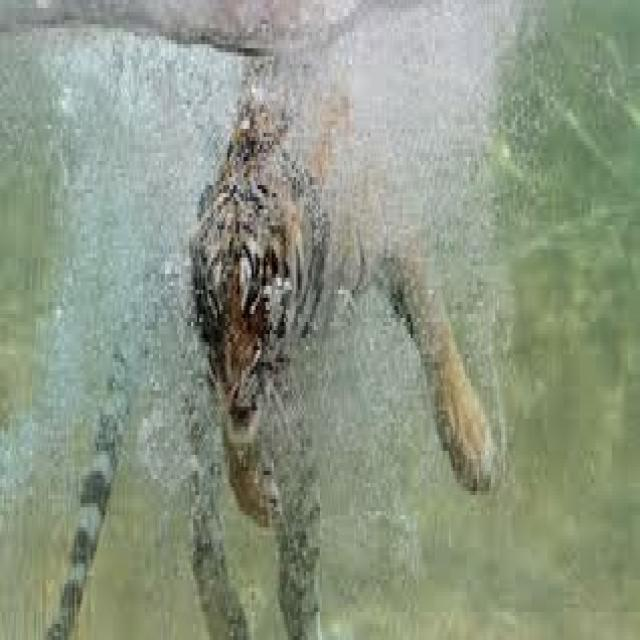tiger: (46, 68, 493, 636)
